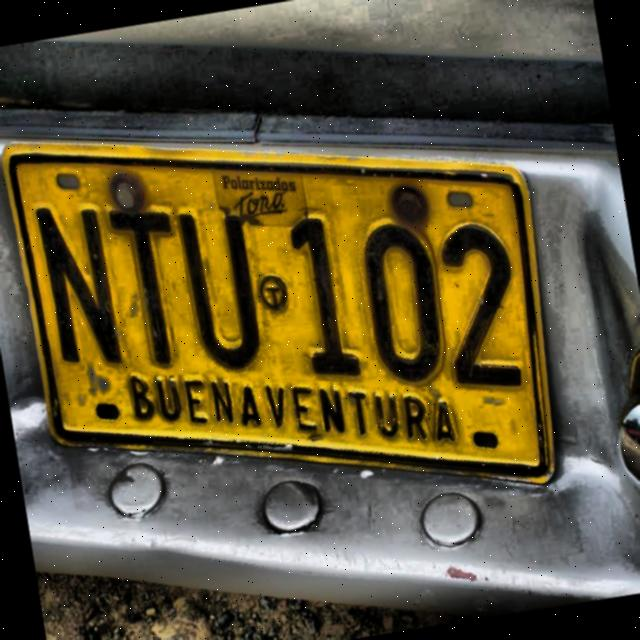plate: (0, 143, 557, 485)
